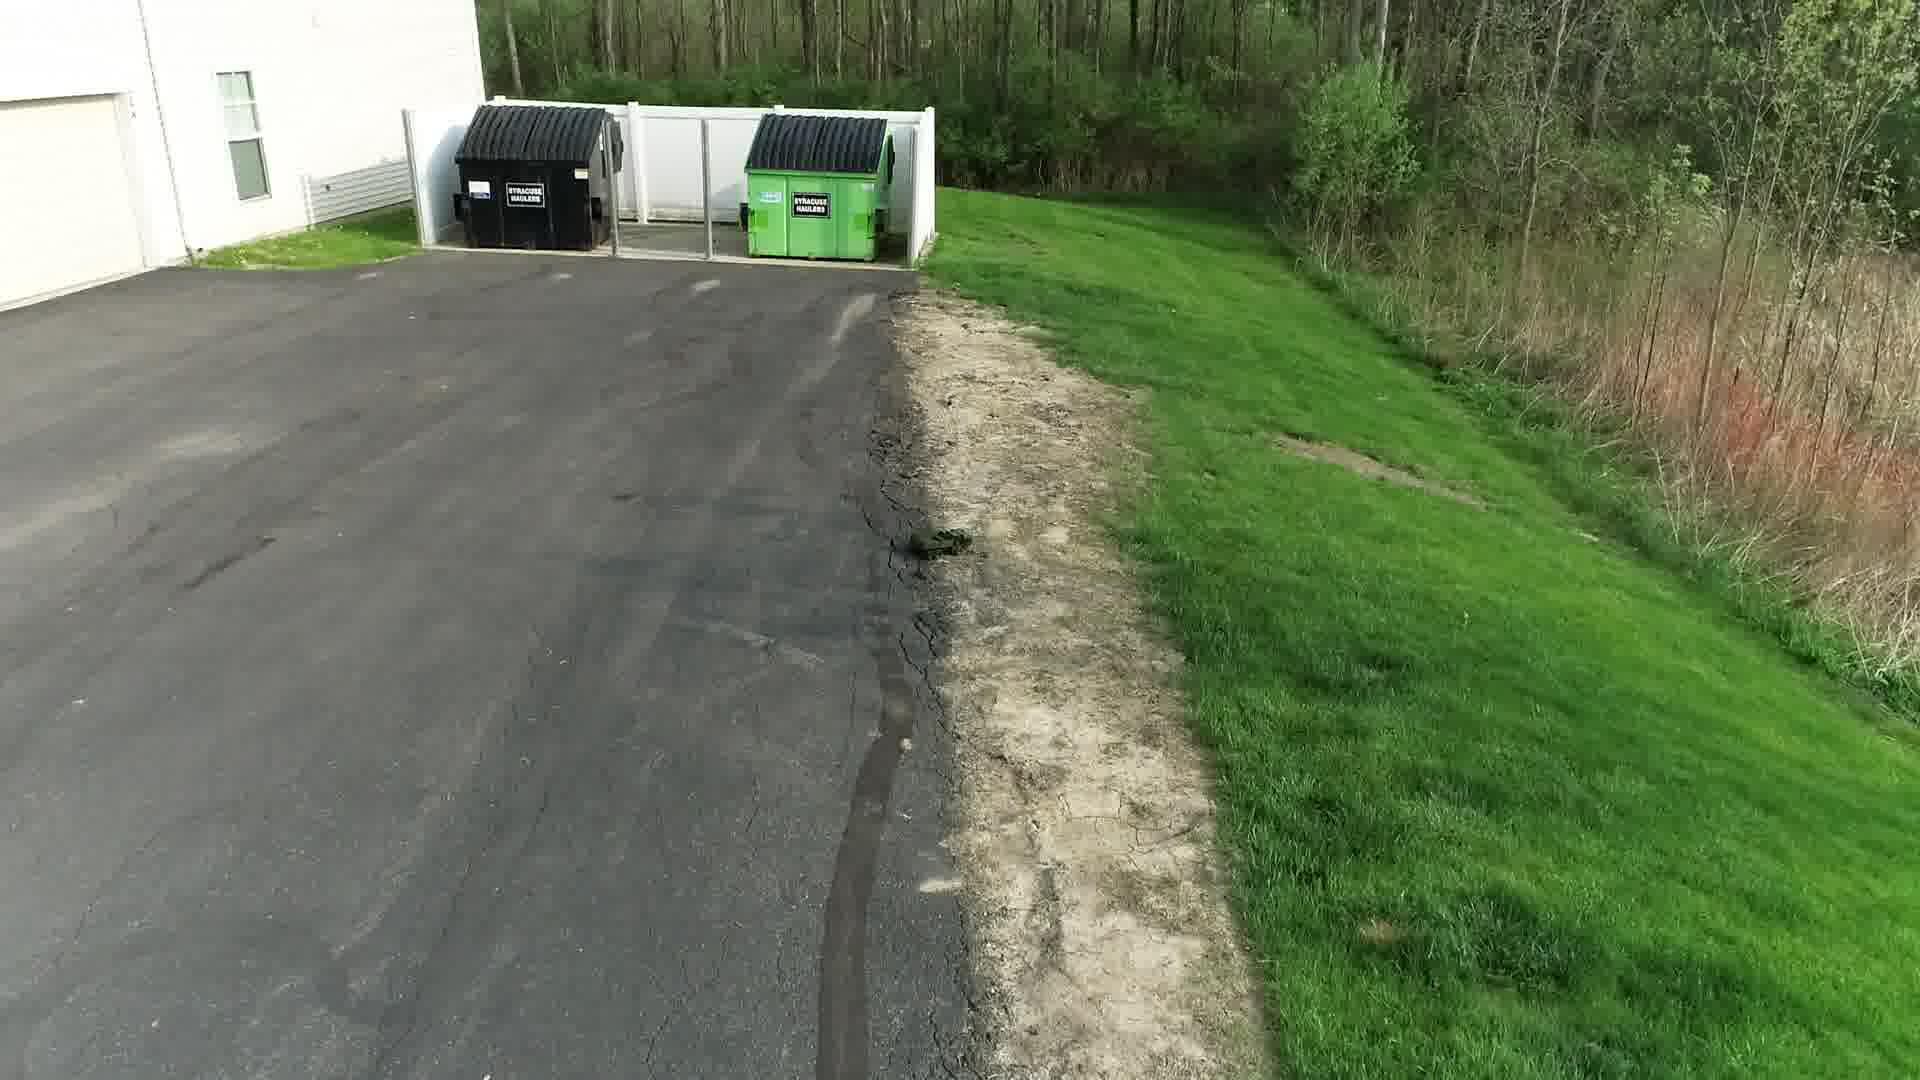transporter9: (906, 527, 976, 560)
